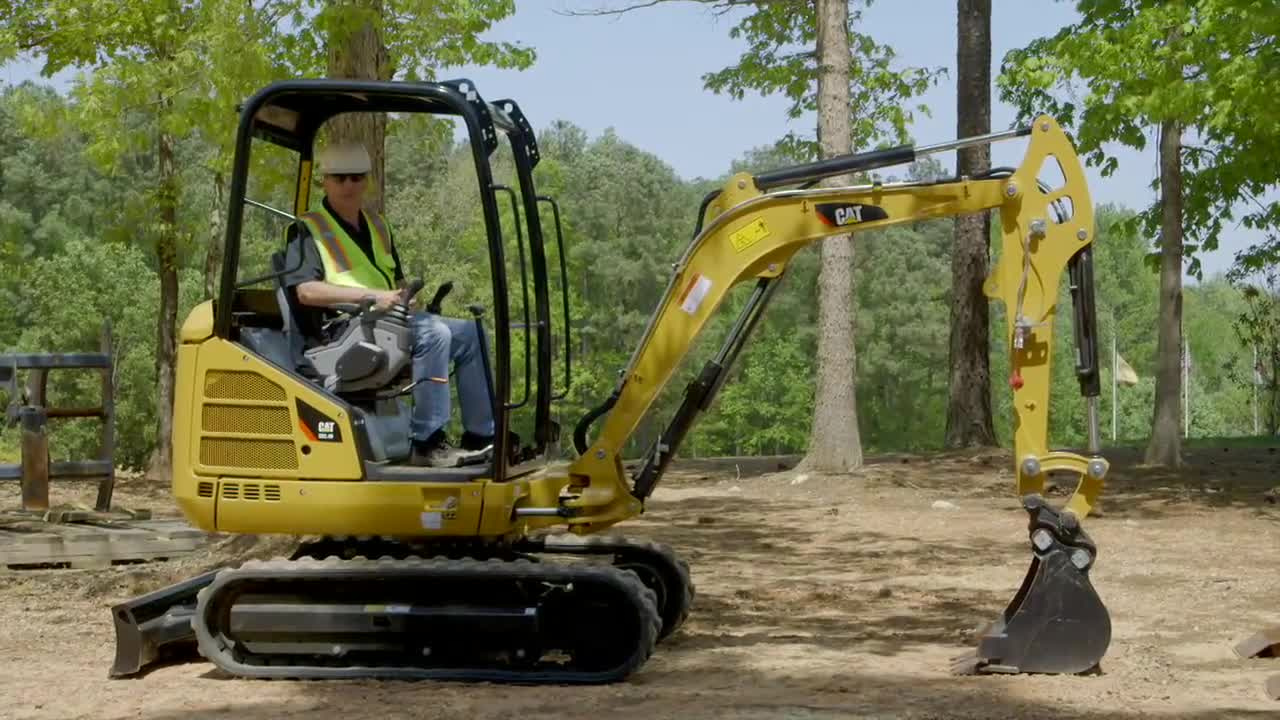attachment-bucket: (946, 500, 1118, 688)
cabin: (161, 84, 562, 539)
forearm: (1001, 109, 1107, 514)
upperarm: (584, 171, 1032, 486)
wheelbase: (173, 523, 706, 684)
